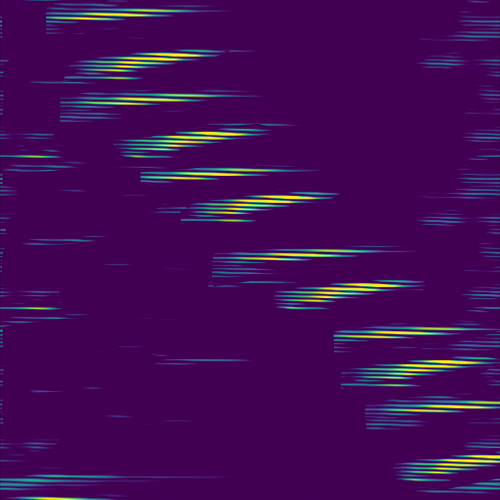semblance: (73, 47, 213, 82), (357, 357, 485, 389), (126, 127, 248, 160), (284, 281, 407, 310), (404, 451, 500, 483), (200, 192, 319, 216), (234, 245, 370, 263), (332, 324, 469, 340), (380, 397, 500, 415), (51, 7, 193, 22), (147, 166, 273, 182), (82, 93, 216, 107)
